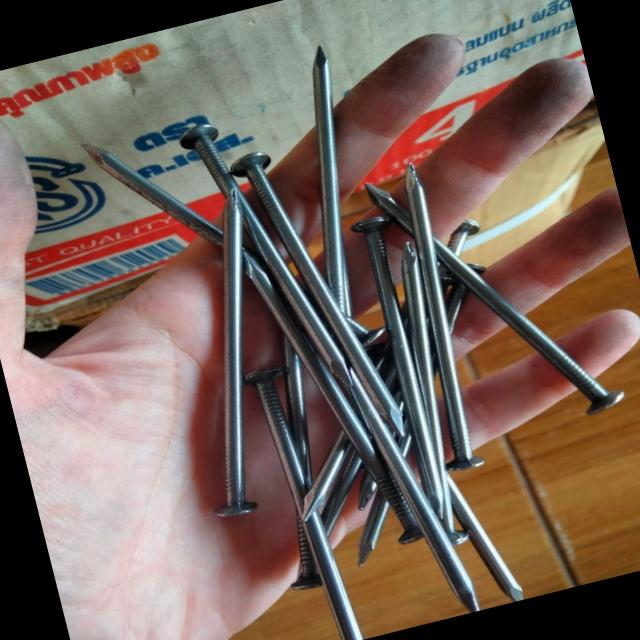3x10 nail: (362, 109, 640, 485), (124, 172, 350, 538), (220, 337, 421, 640)
